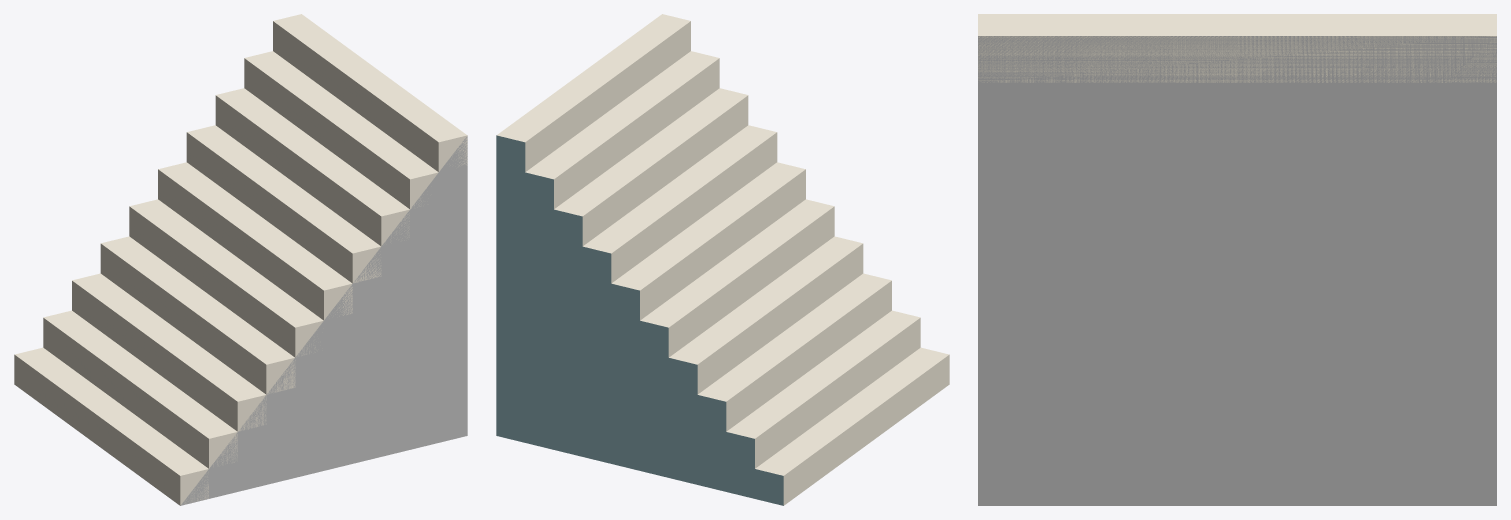
The model's file is Stair.fbx.
3 renders of one model, left to right at view 1: azimuth 30°, elevation 25°; view 2: azimuth 150°, elevation 25°; view 3: azimuth 270°, elevation 25°, orthographic. The views are drawn at different scales.
Parts seen in each view (by area): view 1: SlashStair_11; view 2: SlashStair_11; view 3: SlashStair_11.
Part boxes in pixels (x1=…): SlashStair_11: x1=14, y1=14, x2=467, y2=505; SlashStair_11: x1=496, y1=14, x2=949, y2=505; SlashStair_11: x1=978, y1=14, x2=1496, y2=505.
Size of the model in its own units: 1 by 1 by 1.
